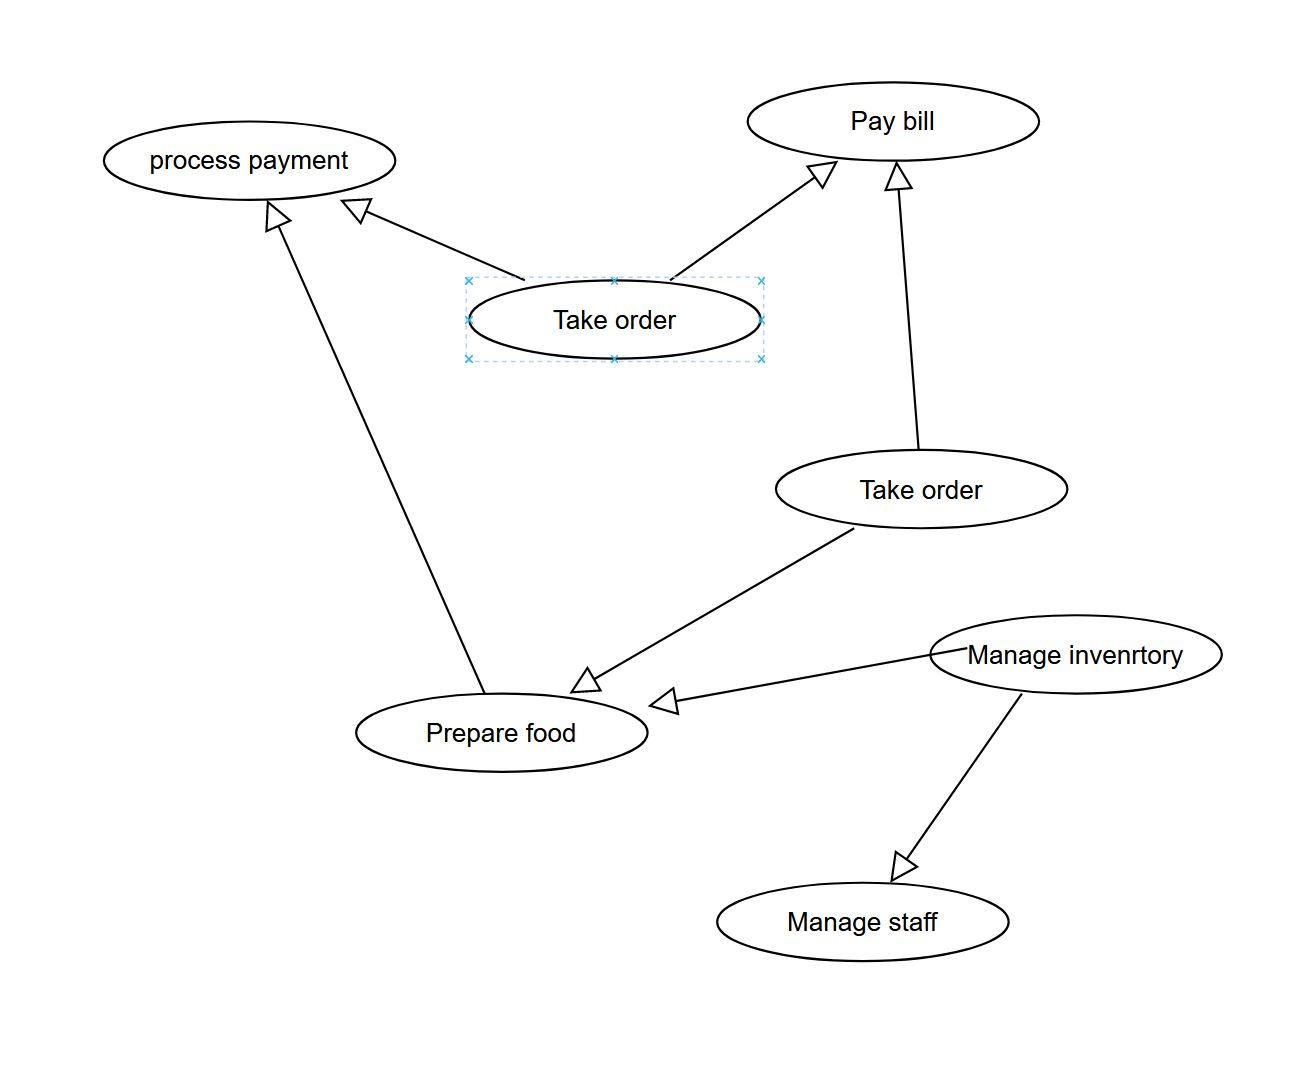generalization: (263, 200, 482, 690), (569, 525, 857, 693), (892, 694, 1022, 885), (649, 646, 964, 714), (668, 156, 840, 280), (339, 197, 519, 278), (887, 160, 920, 445)
text: (969, 641, 1186, 672), (146, 146, 356, 176), (540, 301, 677, 342), (420, 714, 581, 749), (781, 907, 943, 938), (857, 474, 984, 506), (843, 106, 942, 139)
use_case: (464, 278, 764, 360), (930, 613, 1225, 694), (748, 80, 1040, 161), (103, 119, 396, 199), (718, 880, 1009, 959), (779, 449, 1066, 528), (359, 694, 648, 772)
